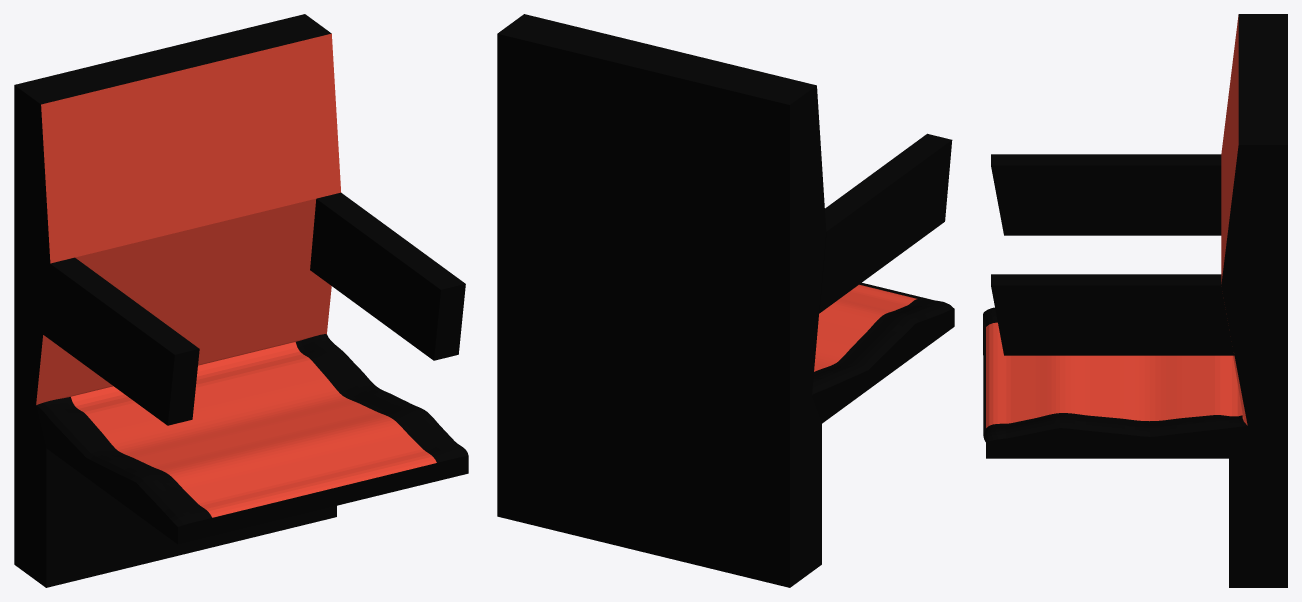
The picture shows the model from 3 angles, left to right: view 1: azimuth 30°, elevation 25°; view 2: azimuth 150°, elevation 25°; view 3: azimuth 270°, elevation 25°; orthographic projection. The views are drawn at different scales.
Parts seen in each view (by area): view 1: Chair, Chair Wall; view 2: Chair, Chair Wall; view 3: Chair, Chair Wall.
Boxes of the visible parts, x1=… form: Chair: x1=14, y1=14, x2=468, y2=587; Chair Wall: x1=43, y1=192, x2=465, y2=425; Chair: x1=497, y1=14, x2=954, y2=587; Chair Wall: x1=819, y1=133, x2=952, y2=313; Chair: x1=983, y1=14, x2=1287, y2=587; Chair Wall: x1=991, y1=154, x2=1234, y2=355.
Size of the model in its own units: 19672 by 20267 by 31527.
